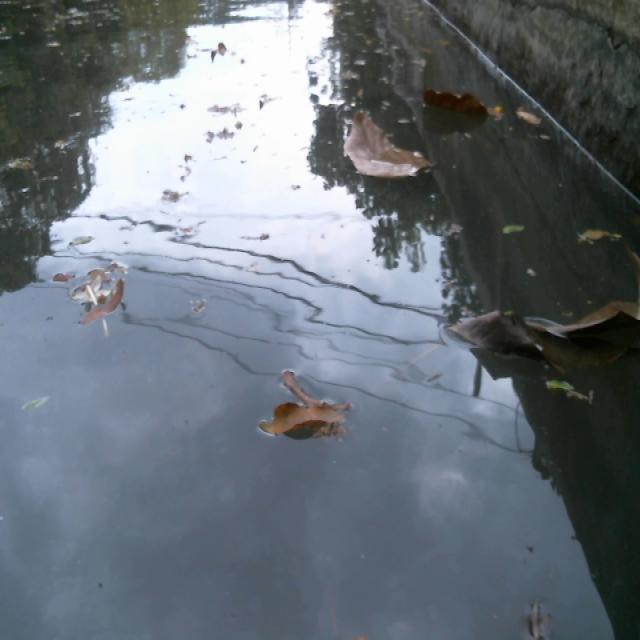Big-leaf: (438, 283, 640, 379), (338, 107, 438, 191), (427, 77, 506, 127)
Small-leaf: (268, 400, 351, 444), (521, 593, 573, 640), (541, 371, 602, 408), (84, 281, 129, 328), (280, 362, 322, 406), (28, 385, 65, 425), (578, 226, 621, 250), (204, 38, 230, 69), (499, 216, 528, 242), (160, 190, 205, 206), (522, 108, 547, 135), (44, 266, 81, 284), (67, 230, 102, 249), (192, 295, 211, 320)
